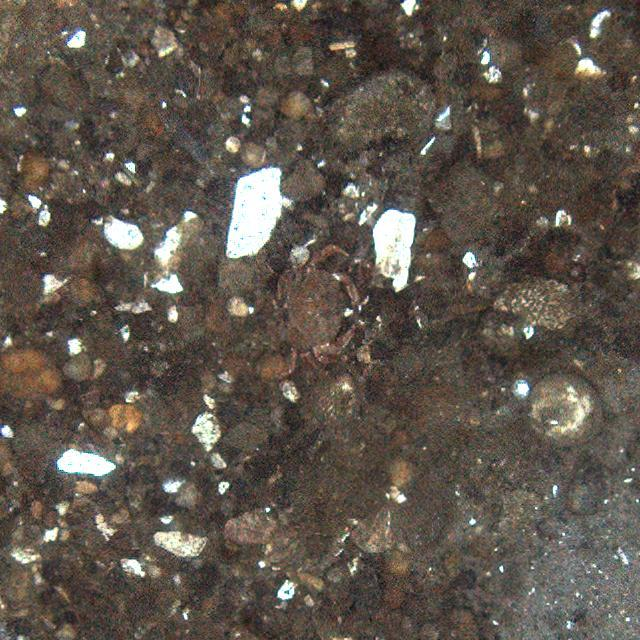crab: (270, 249, 368, 364)
